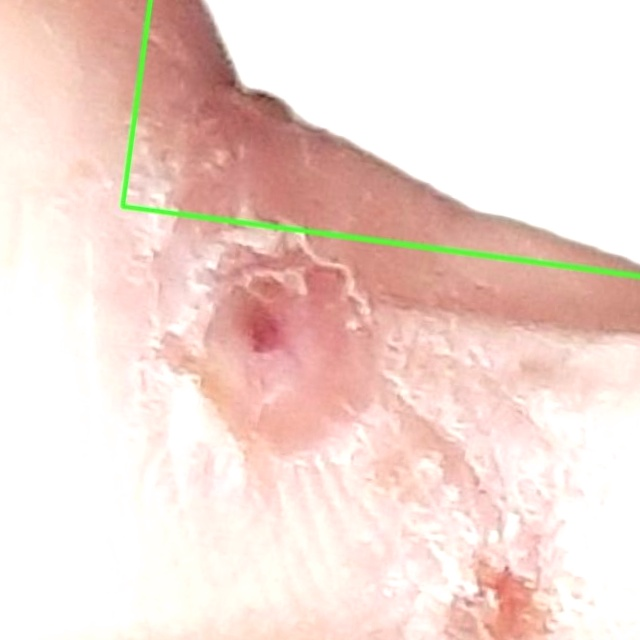Contact Dermatitis: (122, 0, 639, 276)
